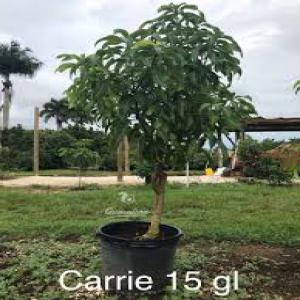Tree: (51, 0, 257, 284)
